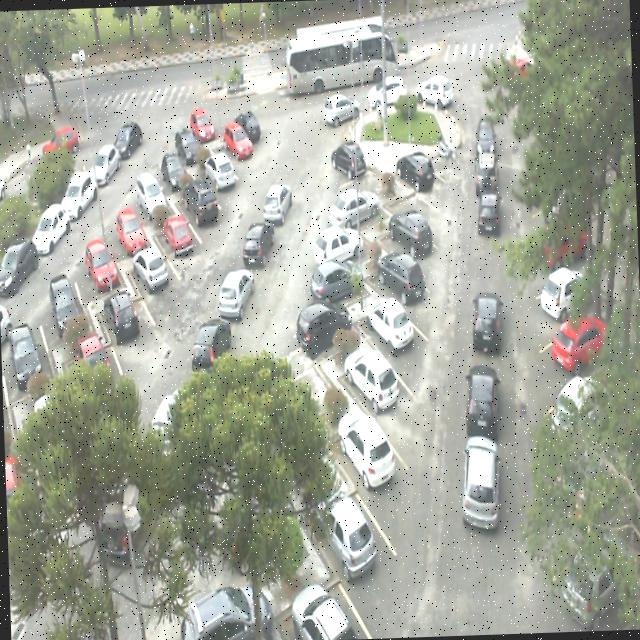empty: (388, 174, 444, 227), (331, 151, 387, 195)
occupied: (309, 482, 399, 608), (327, 404, 405, 519), (282, 548, 369, 640), (171, 570, 277, 640), (344, 344, 416, 437), (350, 290, 419, 369), (33, 252, 90, 342), (276, 300, 348, 370), (0, 302, 52, 398), (366, 242, 432, 312), (96, 278, 150, 362), (68, 218, 122, 302), (303, 248, 366, 308), (304, 214, 370, 268), (377, 204, 435, 264), (129, 236, 176, 310), (150, 198, 198, 270), (100, 195, 150, 263), (328, 182, 386, 230), (126, 164, 170, 226), (398, 150, 452, 200), (178, 173, 222, 231), (194, 138, 238, 196), (168, 114, 210, 172), (150, 140, 191, 198), (214, 118, 252, 174)
